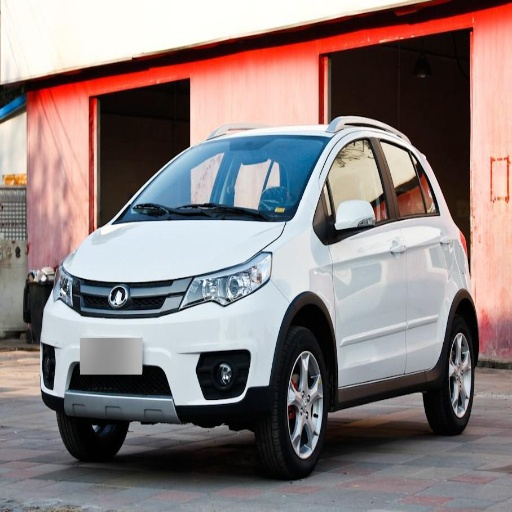front_bumper: (42, 271, 289, 443)
front_glass: (113, 136, 329, 222)
front_left_door: (319, 131, 405, 385)
